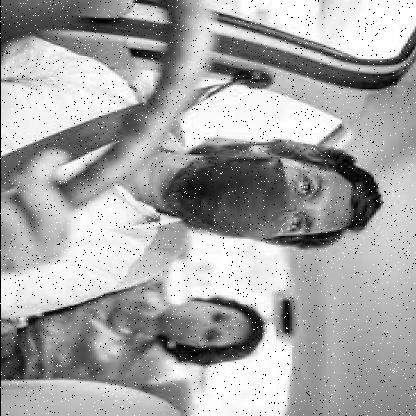seatbelt: (16, 78, 390, 268)
